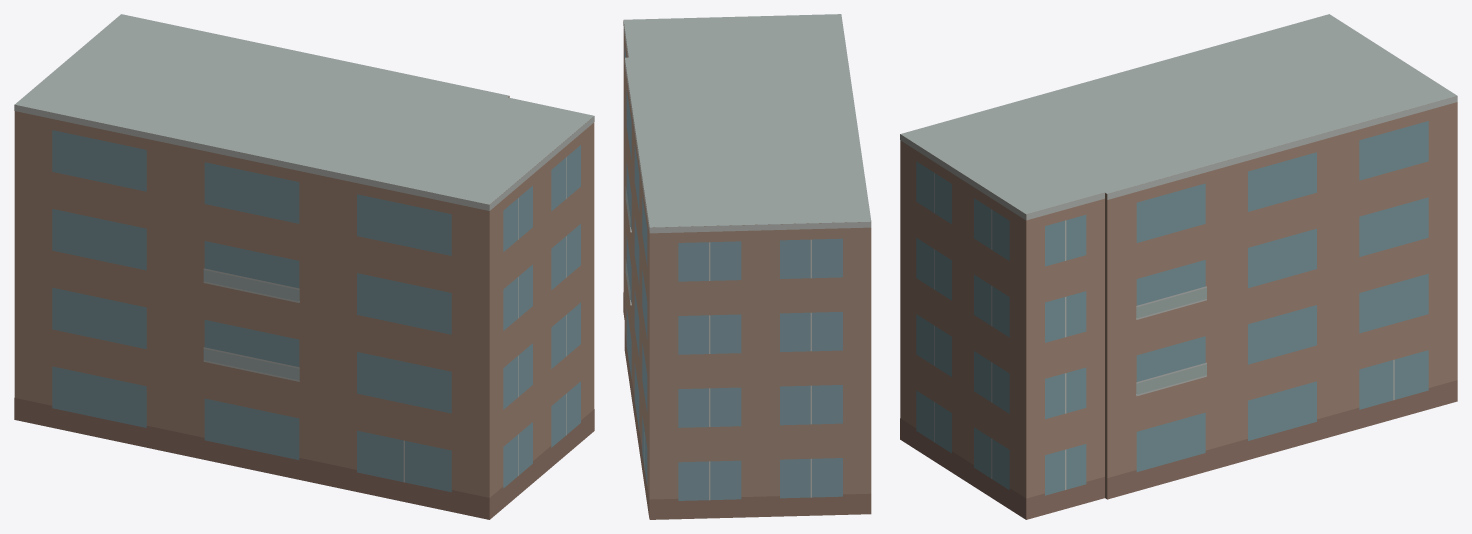
Rendered from survey-upis-32669597.glb.
The picture shows the model from 3 angles, left to right: view 1: azimuth 30°, elevation 25°; view 2: azimuth 150°, elevation 25°; view 3: azimuth 270°, elevation 25°; orthographic projection. The views are drawn at different scales.
Visible parts, largest first — view 1: survey-upis-32669597.tmp; view 2: survey-upis-32669597.tmp; view 3: survey-upis-32669597.tmp.
Part boxes in pixels (box(x1,y1,x2,y2)): survey-upis-32669597.tmp: box(14, 14, 594, 519); survey-upis-32669597.tmp: box(623, 14, 871, 519); survey-upis-32669597.tmp: box(900, 14, 1457, 519).
Size of the model in its own units: 17.17 by 12.2 by 20.18.
